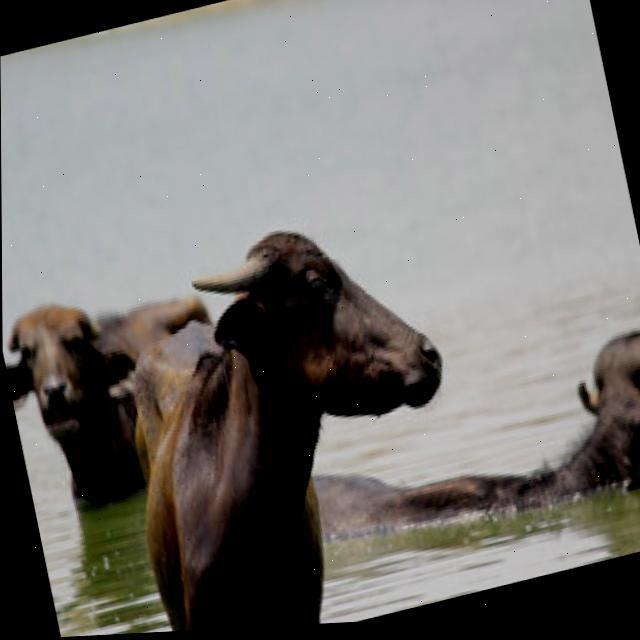Buffalo: (90, 185, 491, 635)
